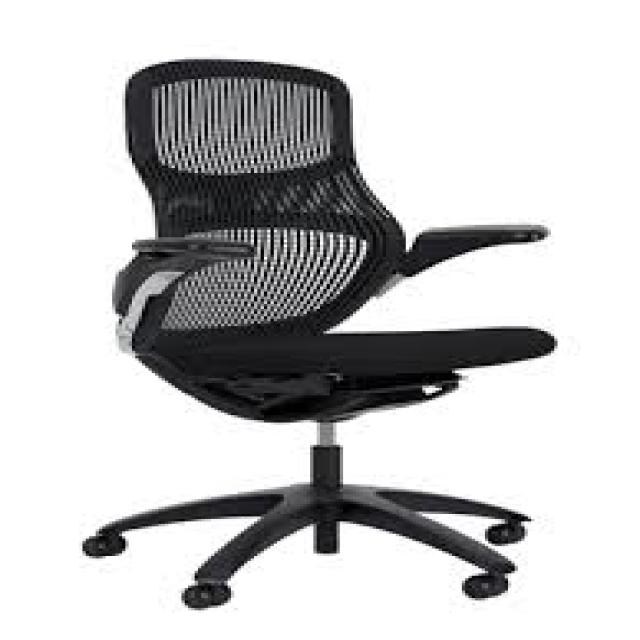chair: (29, 38, 640, 637)
